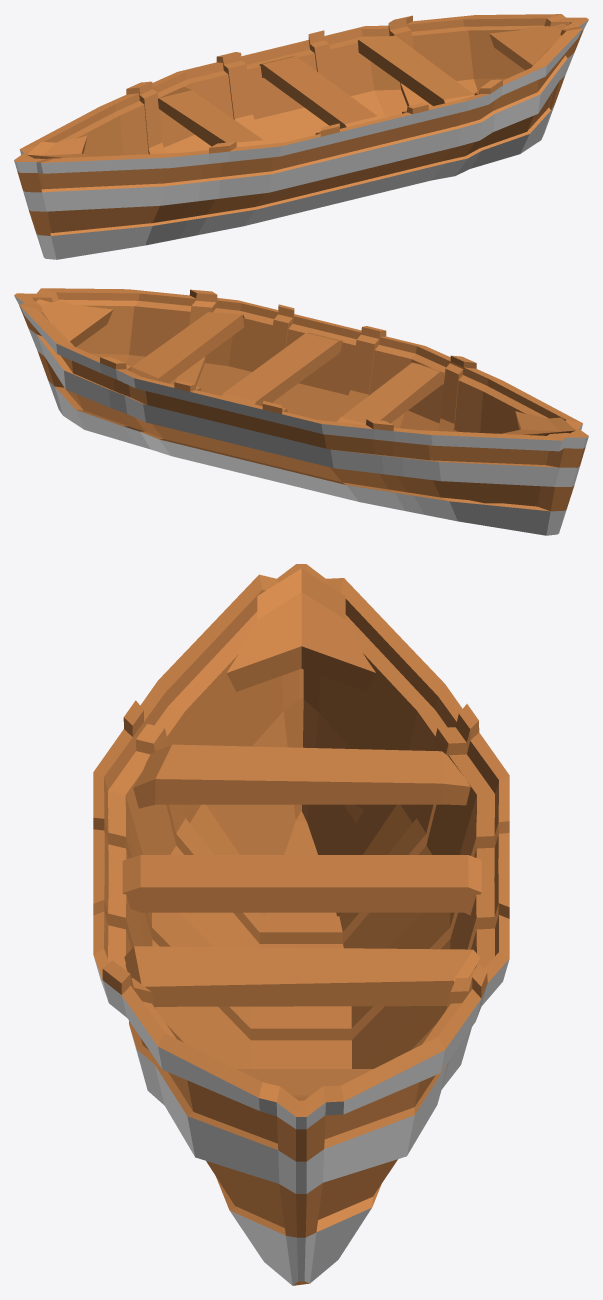
Rendered from лодка.fbx.
3 renders of one model, top to bottom at view 1: azimuth 30°, elevation 25°; view 2: azimuth 150°, elevation 25°; view 3: azimuth 270°, elevation 25°, orthographic. The views are drawn at different scales.
Parts seen in each view (by area): view 1: лодка; view 2: лодка; view 3: лодка.
Boxes of the visible parts, left/top/right/bottom form: лодка: left=14, top=14, right=588, bottom=259; лодка: left=14, top=288, right=588, bottom=535; лодка: left=93, top=564, right=509, bottom=1285.
Bounding box in the file's own units: 695 × 133 × 219.
